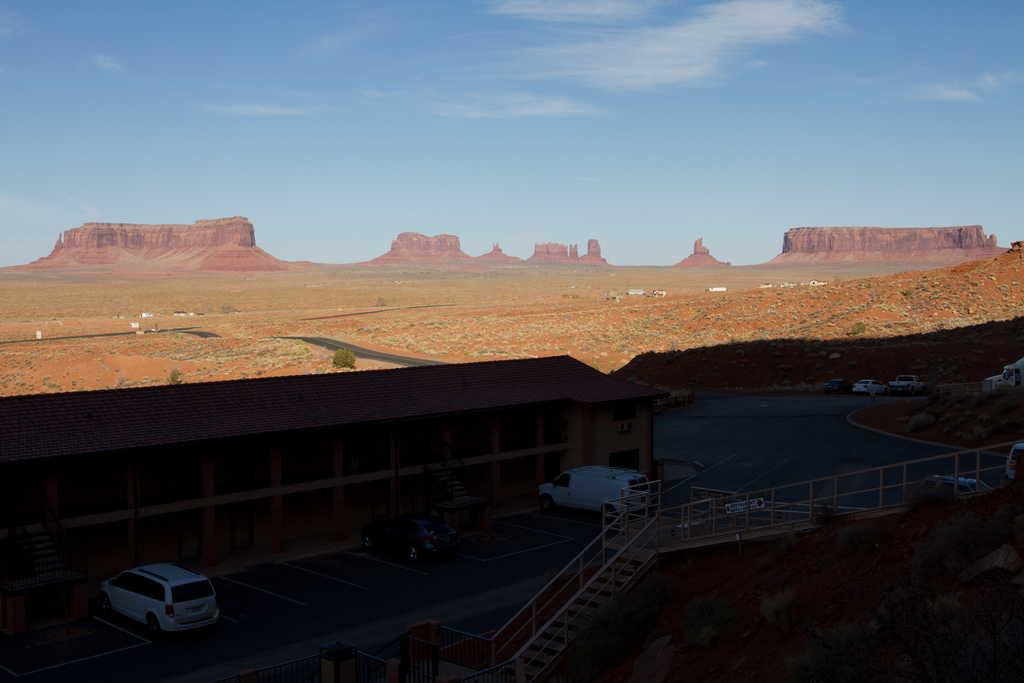Car: (98, 559, 218, 633), (540, 460, 650, 519), (356, 513, 449, 564), (885, 369, 928, 392), (849, 376, 882, 393)
